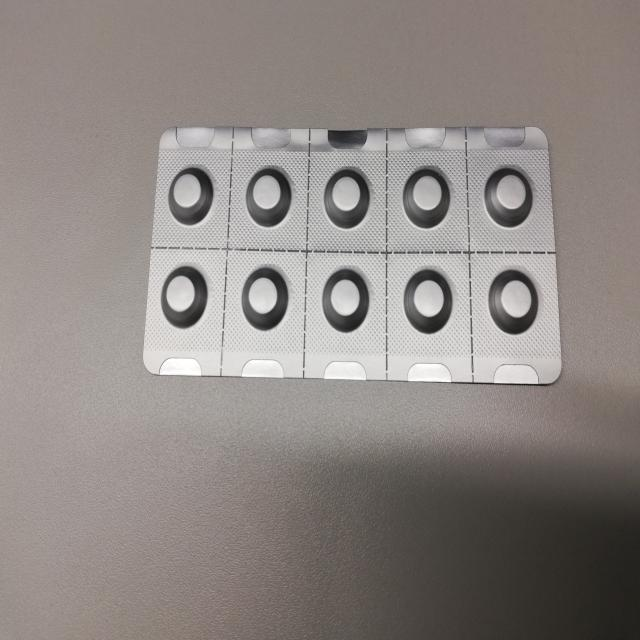Pill: (476, 158, 542, 234), (395, 263, 461, 337), (161, 156, 218, 233), (239, 158, 299, 230), (318, 161, 374, 235), (396, 165, 457, 231), (488, 267, 543, 339), (236, 263, 292, 333), (156, 261, 210, 333), (319, 263, 371, 335)
